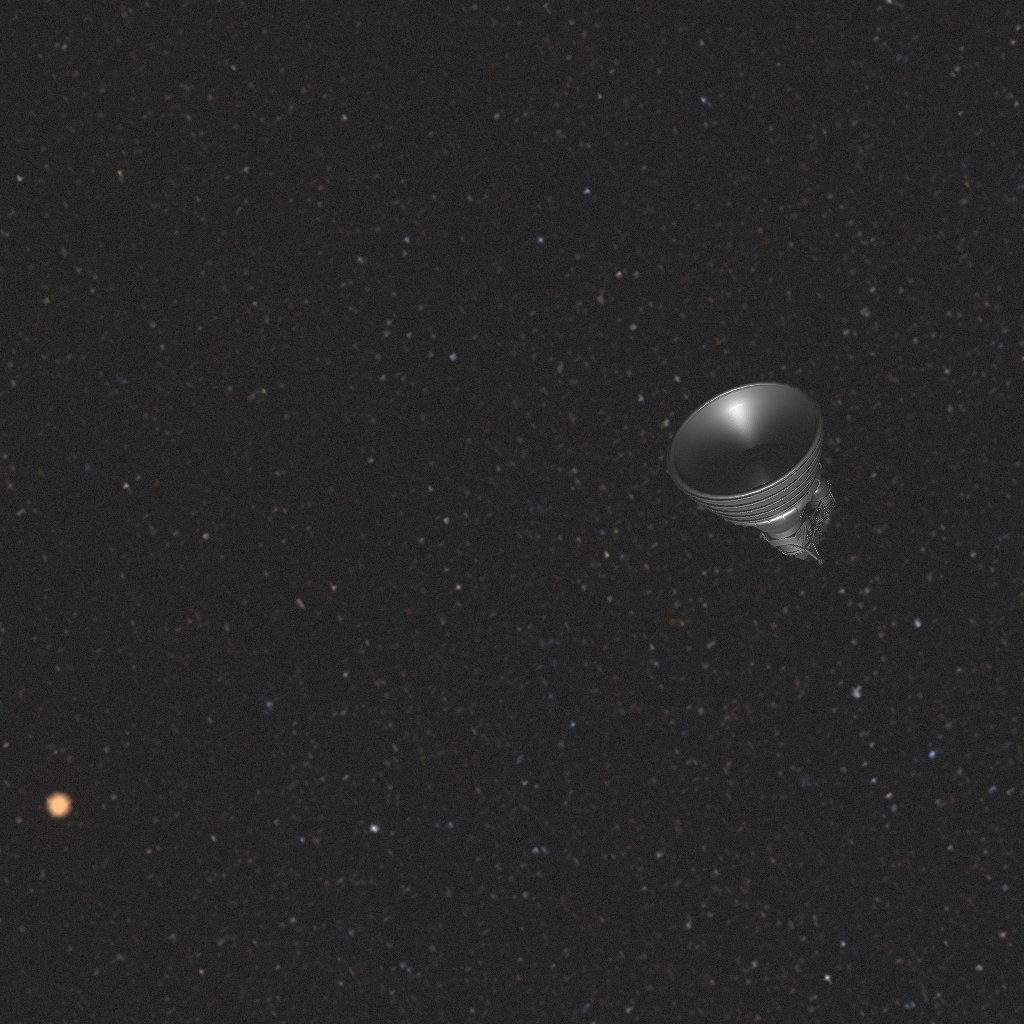debris: (687, 388, 839, 562)
